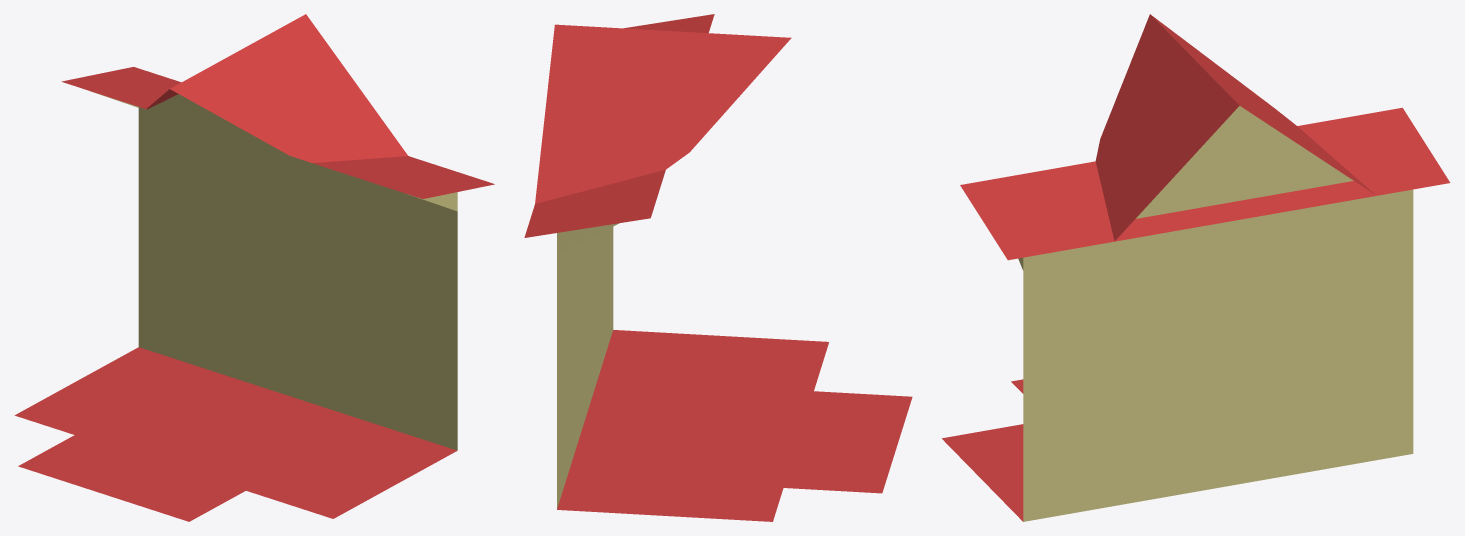
3 renders of one model, left to right at view 1: azimuth 30°, elevation 25°; view 2: azimuth 150°, elevation 25°; view 3: azimuth 270°, elevation 25°, orthographic. The views are drawn at different scales.
Size of the model in its own units: 12.02 by 13.41 by 11.38.
